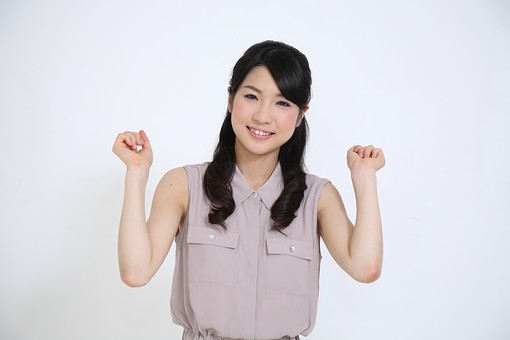face: (224, 66, 309, 153)
hand: (111, 129, 153, 166), (347, 142, 384, 174)
